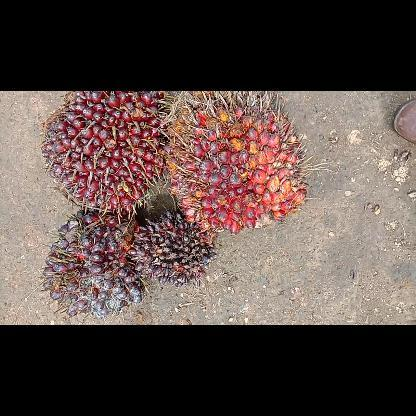Kurang masak: (39, 91, 169, 217), (41, 208, 146, 320)
TBS abnormal: (128, 209, 218, 289)
TBS masak: (163, 92, 309, 236)
